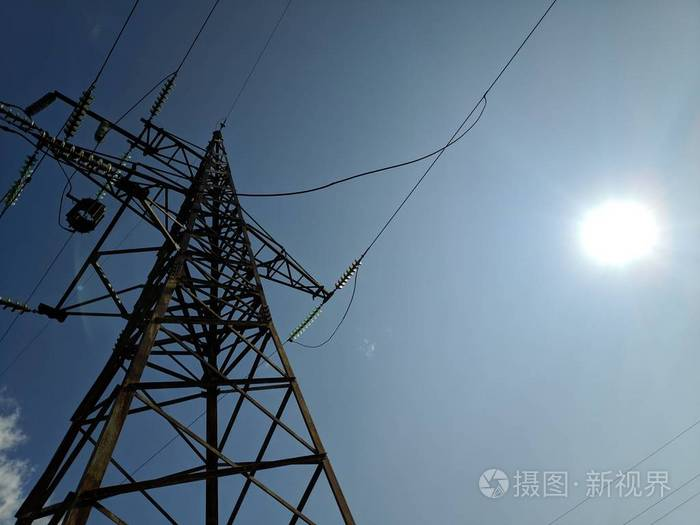insulator: (52, 135, 110, 170), (94, 154, 131, 200), (5, 154, 37, 207), (66, 91, 93, 133), (289, 305, 321, 339), (1, 103, 38, 131), (334, 259, 363, 289), (151, 79, 173, 115), (1, 295, 28, 316)
